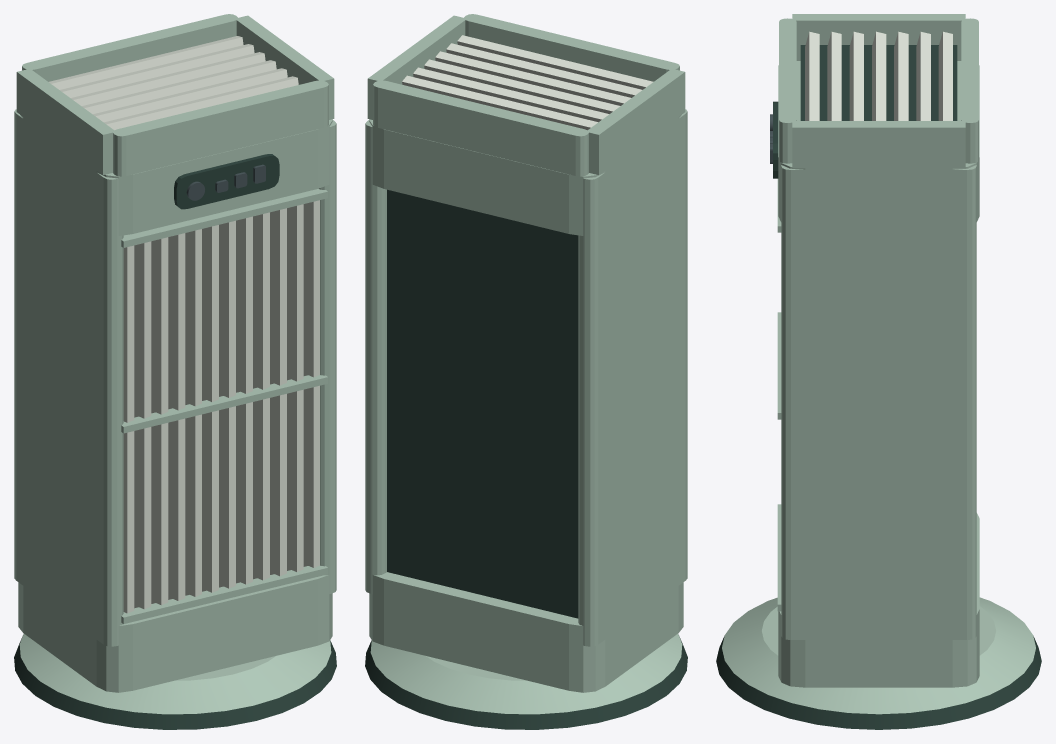
3 renders of one model, left to right at view 1: azimuth 30°, elevation 25°; view 2: azimuth 150°, elevation 25°; view 3: azimuth 270°, elevation 25°, orthographic.
Visible parts, largest first — view 1: intake-pleated-screen, filter-side-shells, top-outlet-rails, lower-shell, top-discharge-louvres, upper-control-shell, base-shoulder, filter-door-rails, weighted-foot, control-bezel; view 2: filter-well-back, filter-side-shells, top-outlet-rails, lower-shell, upper-control-shell, top-discharge-louvres, base-shoulder, weighted-foot; view 3: filter-side-shells, top-outlet-rails, base-shoulder, lower-shell, top-discharge-louvres, upper-control-shell, weighted-foot, top-discharge-well, filter-door-rails.
Part boxes in pixels (x1=…): intake-pleated-screen: x1=123, y1=200, x2=319, y2=613; filter-side-shells: x1=14, y1=109, x2=336, y2=646; top-outlet-rails: x1=16, y1=14, x2=334, y2=176; lower-shell: x1=18, y1=566, x2=332, y2=692; top-discharge-louvres: x1=49, y1=36, x2=298, y2=130; upper-control-shell: x1=20, y1=115, x2=332, y2=235; base-shoulder: x1=19, y1=634, x2=331, y2=714; filter-door-rails: x1=121, y1=189, x2=327, y2=624; weighted-foot: x1=14, y1=636, x2=336, y2=729; control-bezel: x1=174, y1=154, x2=279, y2=209; filter-well-back: x1=387, y1=189, x2=578, y2=618; filter-side-shells: x1=365, y1=109, x2=687, y2=646; top-outlet-rails: x1=367, y1=14, x2=685, y2=176; lower-shell: x1=369, y1=566, x2=683, y2=692; upper-control-shell: x1=369, y1=115, x2=681, y2=235; top-discharge-louvres: x1=402, y1=35, x2=653, y2=130; base-shoulder: x1=370, y1=634, x2=682, y2=714; weighted-foot: x1=365, y1=636, x2=687, y2=729; filter-side-shells: x1=781, y1=165, x2=976, y2=639; top-outlet-rails: x1=779, y1=14, x2=978, y2=167; base-shoulder: x1=722, y1=597, x2=1035, y2=714; lower-shell: x1=778, y1=513, x2=979, y2=687; top-discharge-louvres: x1=805, y1=31, x2=952, y2=120; upper-control-shell: x1=778, y1=61, x2=979, y2=227; weighted-foot: x1=716, y1=636, x2=1041, y2=729; top-discharge-well: x1=800, y1=45, x2=957, y2=120; filter-door-rails: x1=777, y1=179, x2=781, y2=611.
Bounding box in the file's own units: 0.4 × 0.8 × 0.4.
